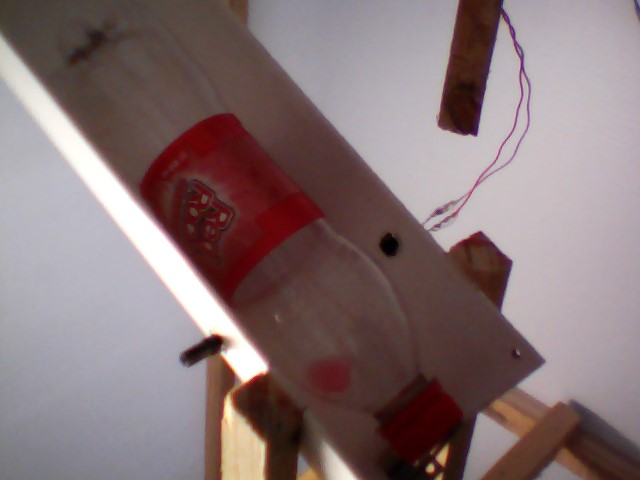plastico: (34, 2, 476, 456)
